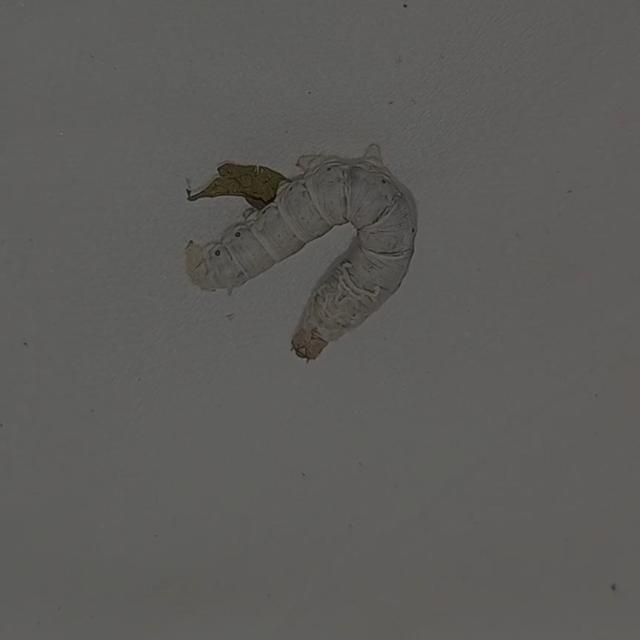Healthy: (179, 137, 431, 369)
